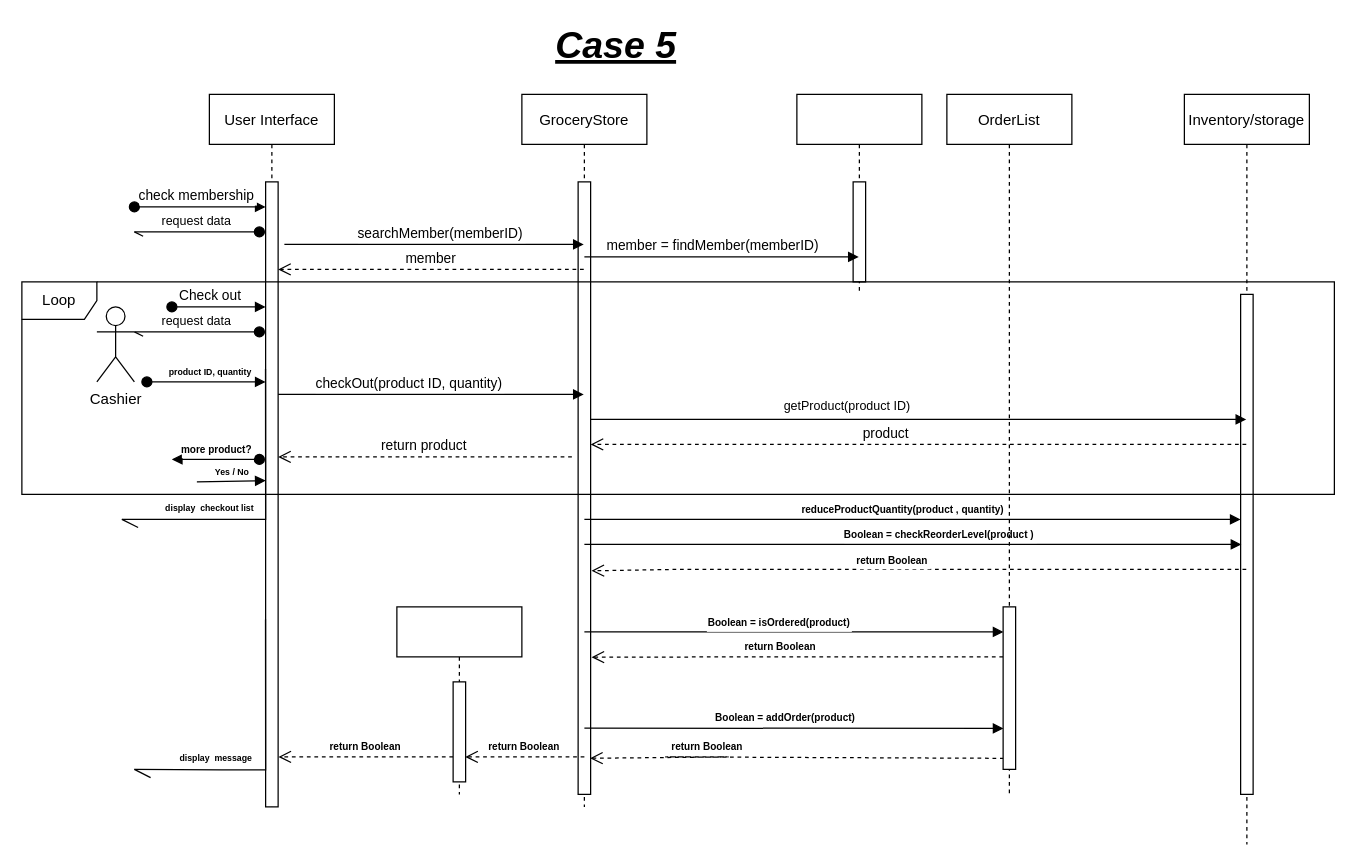
Some shapes in this 1356 by 866 pixel diagram are drawn without their labels. The centre of each missing label's shape, as x and y in pixels:
"memberList" goes at [859,193].
"Result" goes at [459,700].
